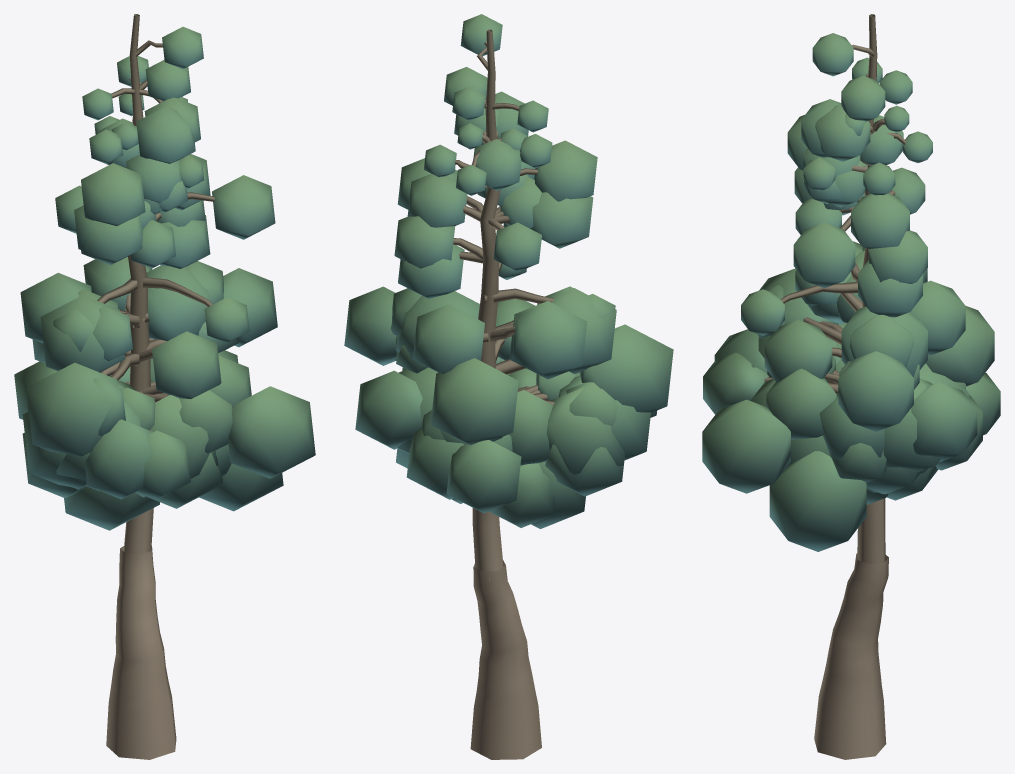
Rendered from seed_conifer_b.glb.
3 views of the same model, side by side, from view 1: azimuth 30°, elevation 25°; view 2: azimuth 150°, elevation 25°; view 3: azimuth 270°, elevation 25° (orthographic).
Visible parts, largest first — view 1: seed_conifer_b_LOD0; view 2: seed_conifer_b_LOD0; view 3: seed_conifer_b_LOD0.
Boxes of the visible parts, x1,y1,x2,y2 form: seed_conifer_b_LOD0: [14, 14, 315, 759]; seed_conifer_b_LOD0: [344, 14, 673, 759]; seed_conifer_b_LOD0: [702, 14, 1000, 759].
Size of what is drawn, in the model's own units: 3.99 by 9.87 by 3.64.
